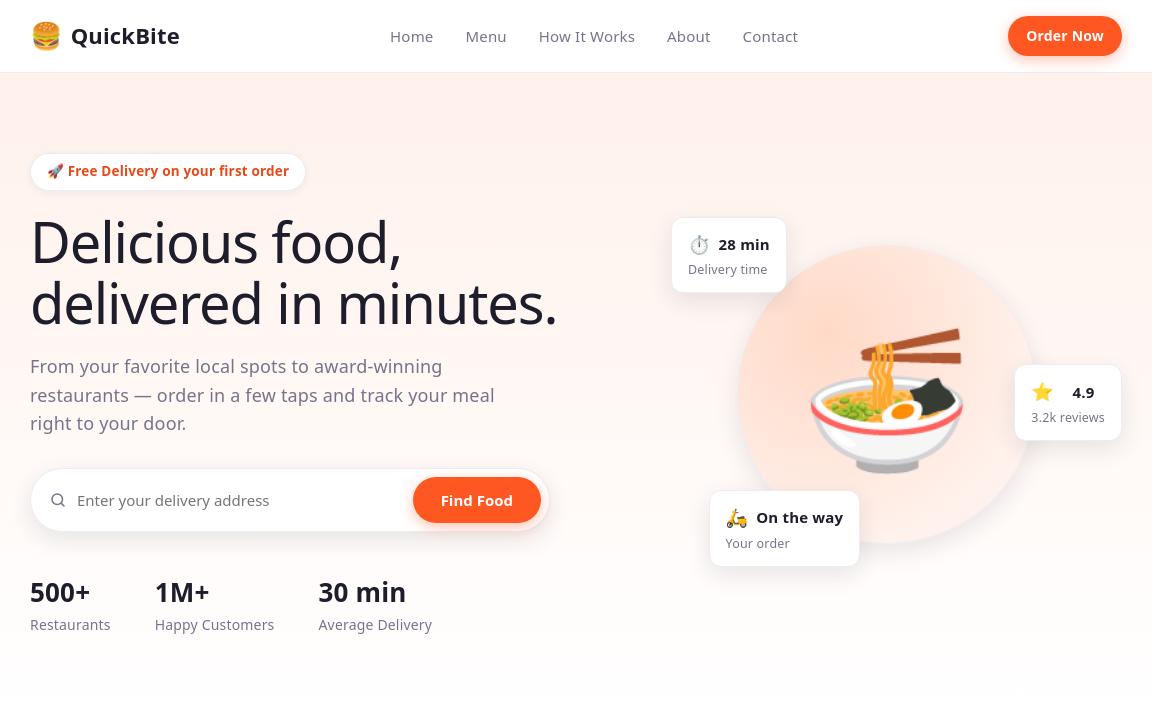
Hero Section › shows the entered address in the search feedback on search
The width and height of the screenshot is (1152, 720).
Type "Downtown Street 7" into the field labelled "Enter your delivery address" at (240, 500), box 75,489 -> 405,511
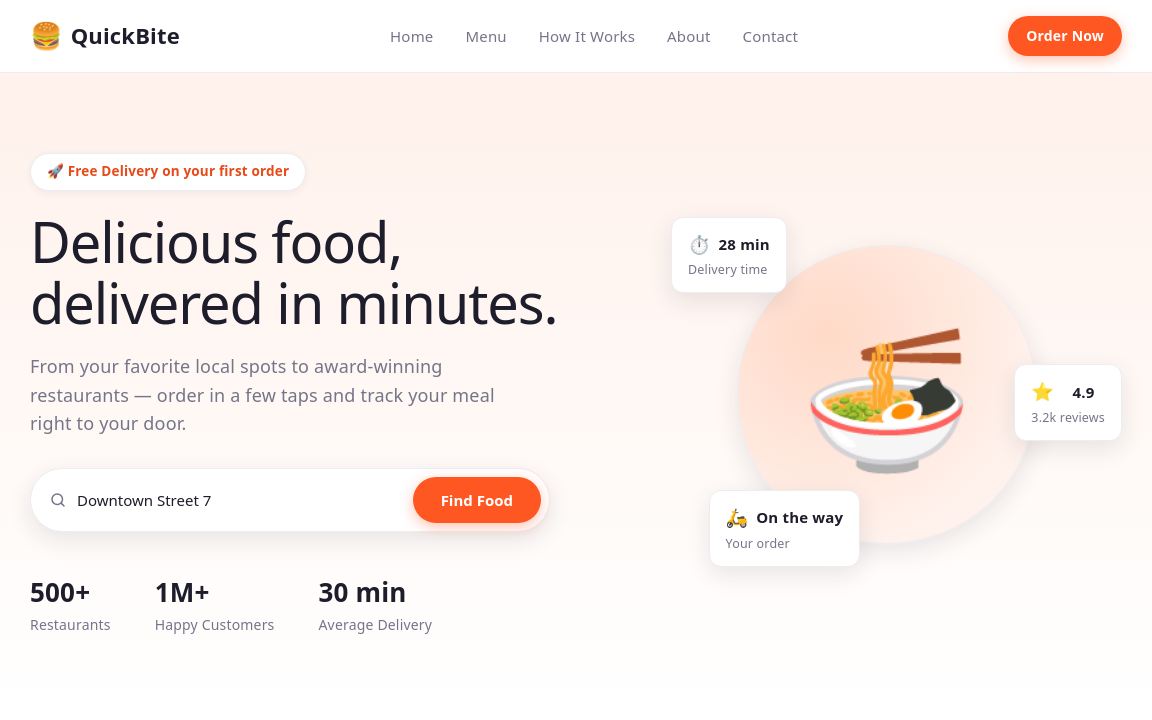
Click the button "Find Food" at (477, 500), box 413,477 -> 541,523
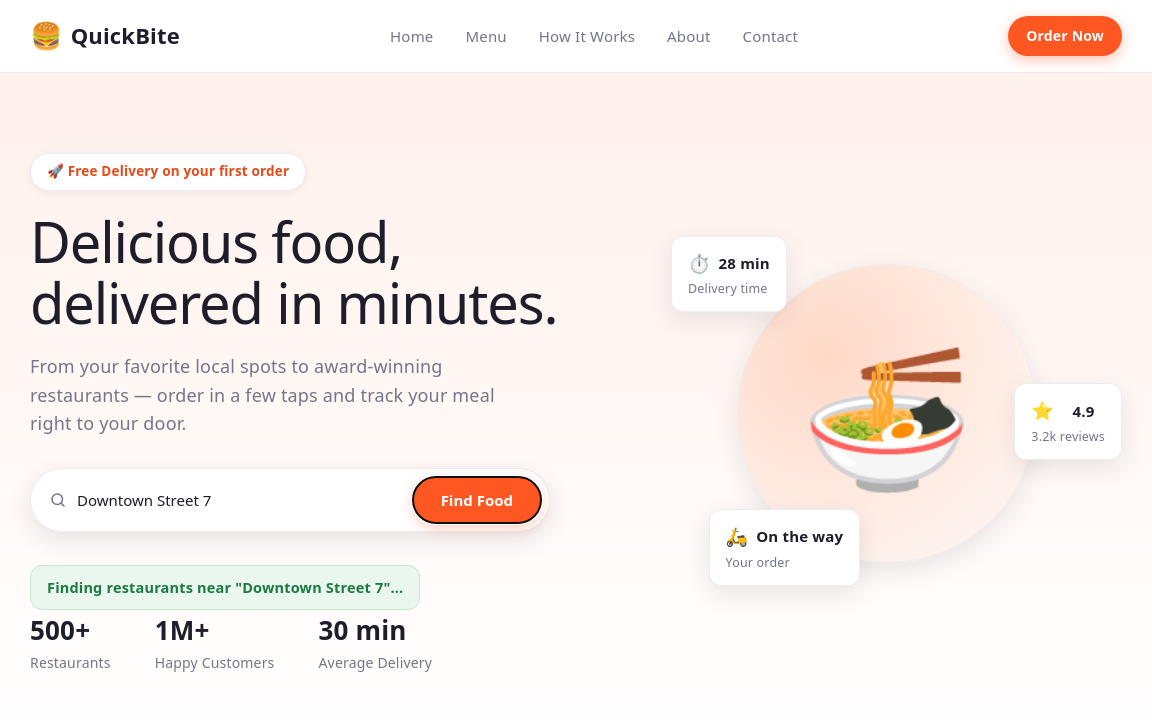
Expected: the message reads "Finding restaurants near \"Downtown Street 7\"...", 47,577 -> 403,597
